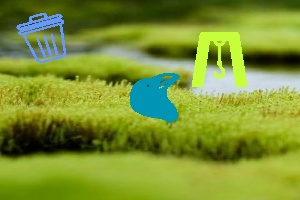垃圾桶: (17, 12, 68, 62)
钩子: (192, 31, 249, 88)
鸟头: (128, 73, 178, 119)
